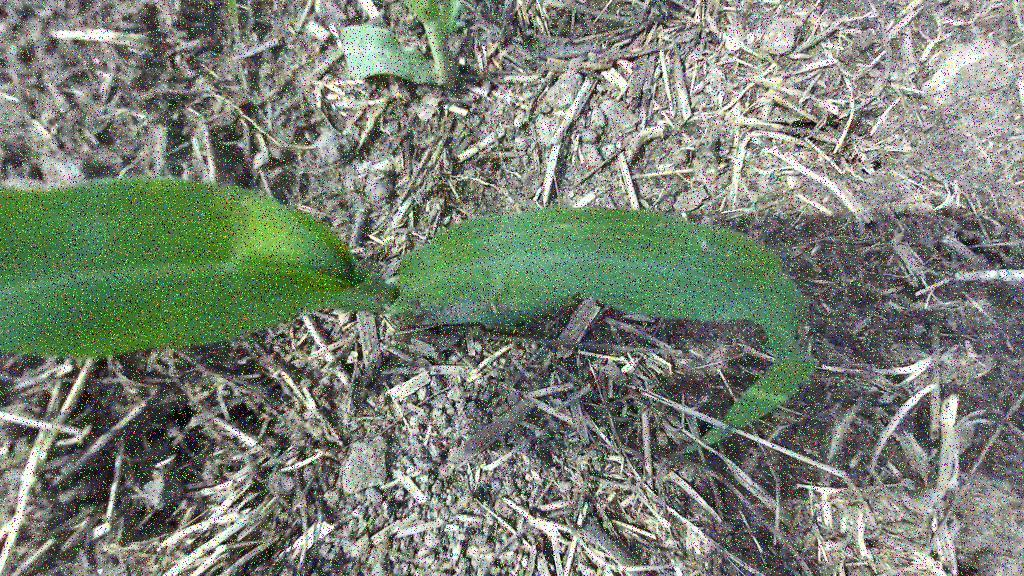BroWeed: (387, 548, 416, 564), (379, 493, 394, 512), (533, 42, 547, 51), (411, 97, 422, 108), (602, 520, 614, 530), (365, 516, 375, 526), (619, 10, 632, 16), (594, 568, 603, 576), (518, 568, 525, 576)
Maize: (0, 110, 839, 478)
